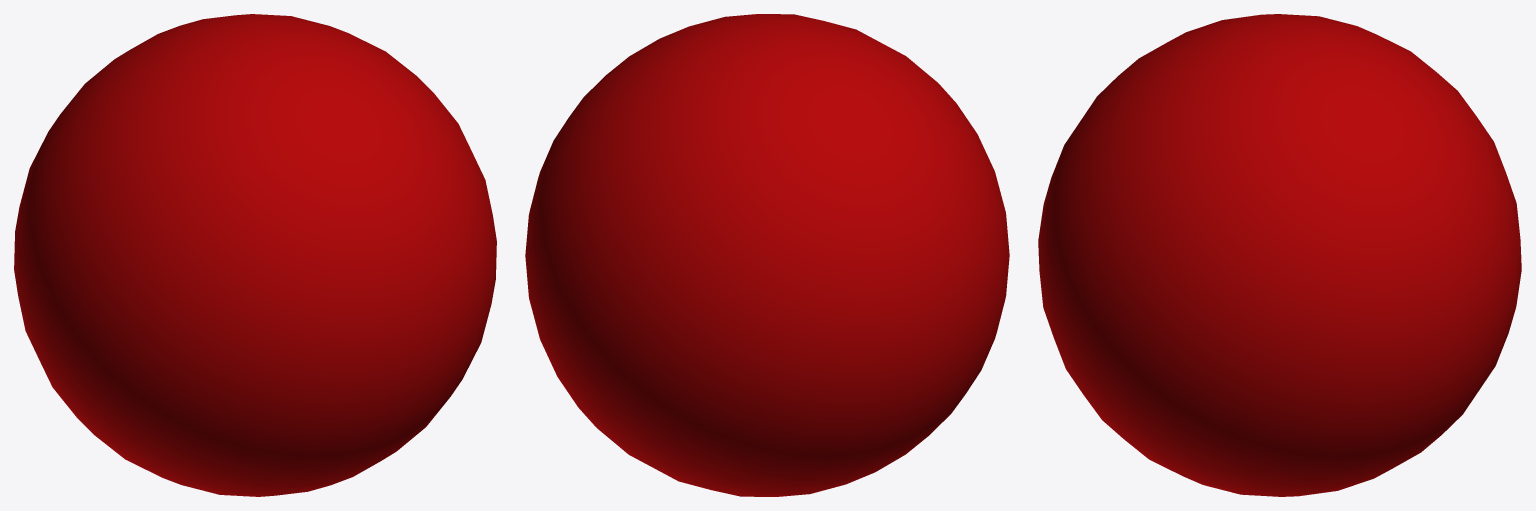
The model's file is ball_fire.obj.
3 views of the same model, side by side, from view 1: azimuth 30°, elevation 25°; view 2: azimuth 150°, elevation 25°; view 3: azimuth 270°, elevation 25° (orthographic).
Parts seen in each view (by area): view 1: Moon_Cube.005; view 2: Moon_Cube.005; view 3: Moon_Cube.005.
Part boxes in pixels (x1,y1,x2,y2): Moon_Cube.005: (14, 14, 496, 496); Moon_Cube.005: (525, 14, 1009, 496); Moon_Cube.005: (1038, 14, 1521, 496).
Bounding box in the file's own units: 0.7784 × 0.7766 × 0.7771.
